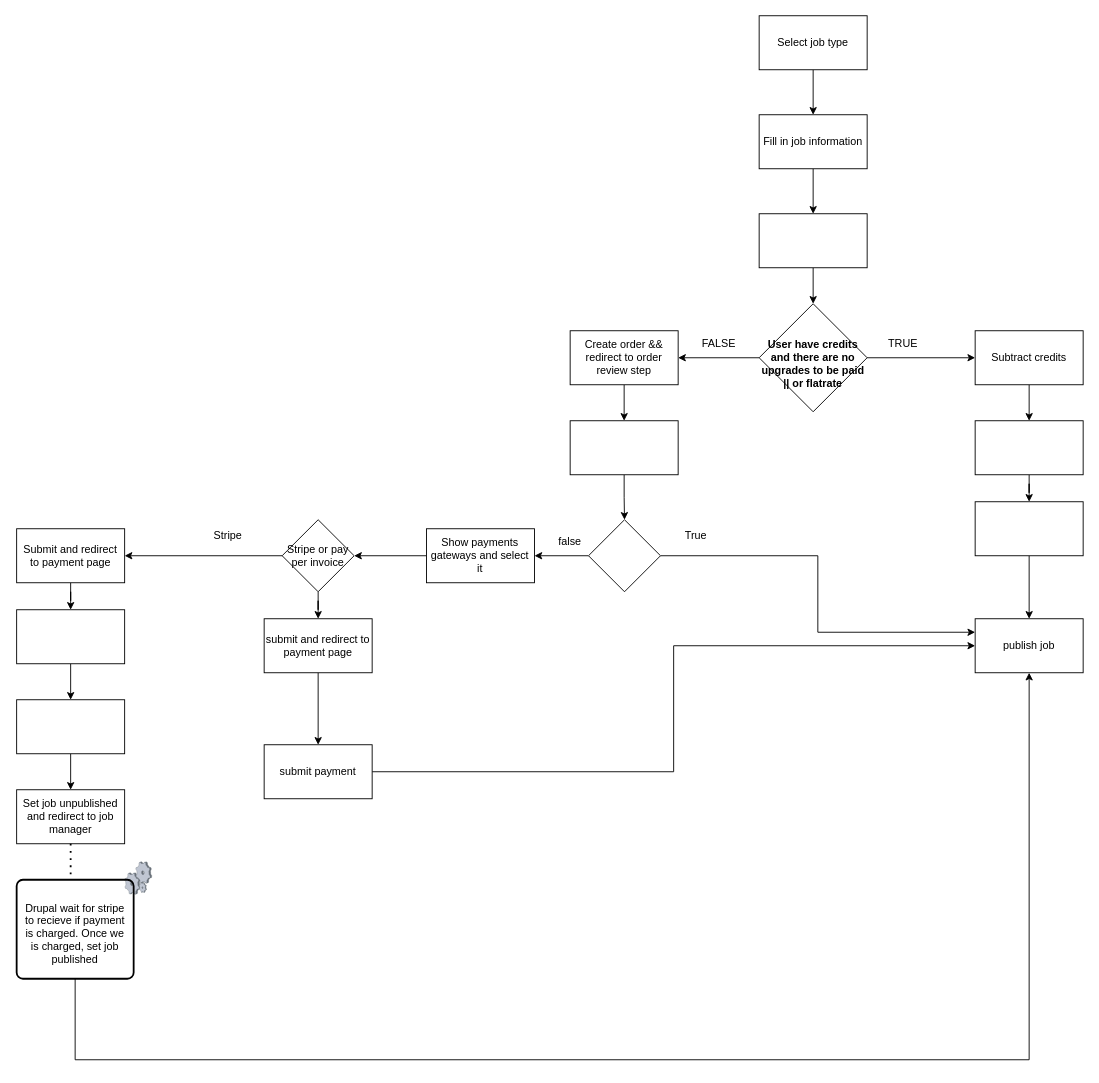
This 1099x1083 diagram has some shape labels left out. The shapes that lost their labels are listed below. From the top down, each one's centre as x and y in pixels, then its label:
At point (812, 240): "Select job upgrades && press next".
At point (623, 447): "Fill in billing information and calculate tax".
At point (1028, 447): "Show info credit substracted".
At point (1028, 528): "Redirect to job manager".
At point (624, 555): "is order total 0?".
At point (70, 636): "Enter credit card info".
At point (70, 726): "Submit payment and wait for stripe to finish processing (card validation, 3ds".
